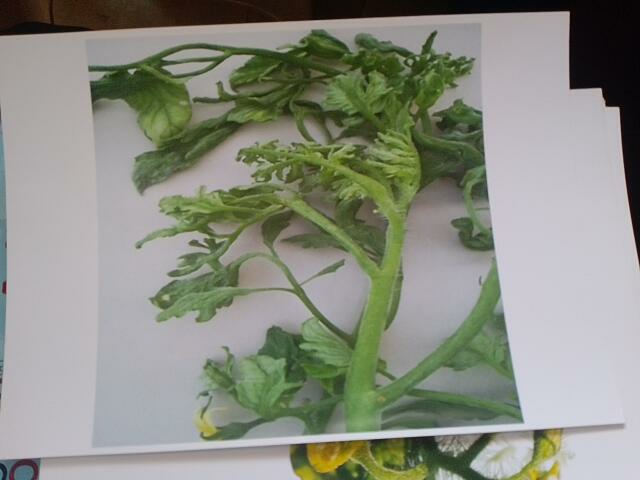Grape_Blight_Leaf: (205, 24, 545, 344)
